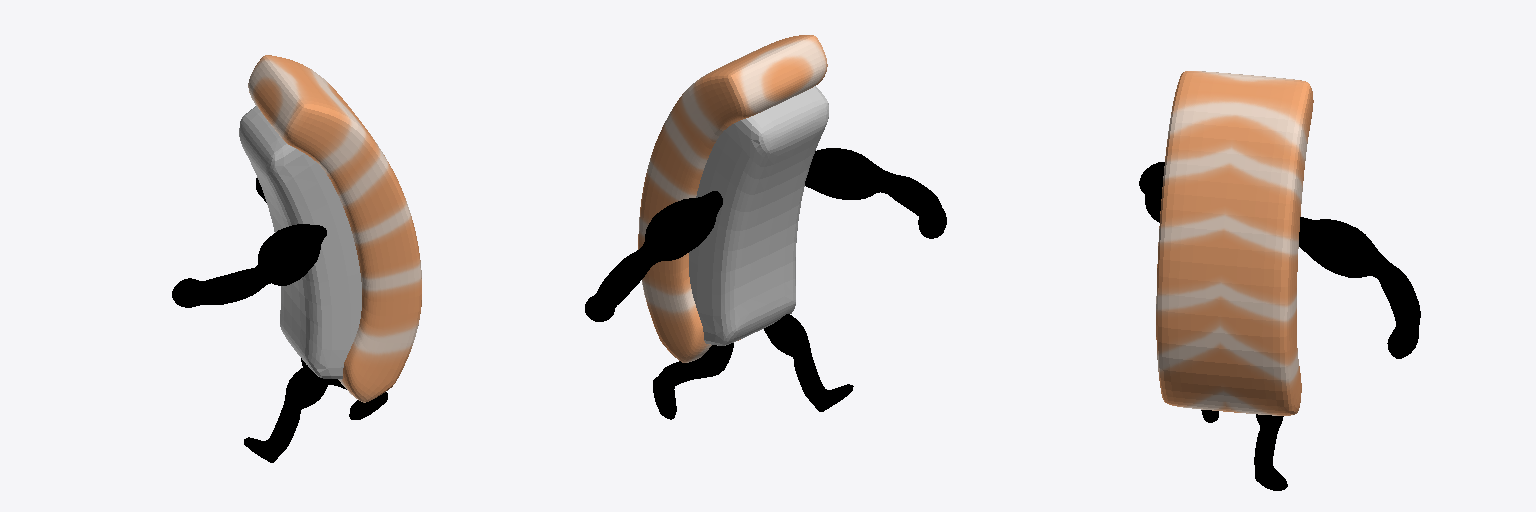
3 renders of one model, left to right at view 1: azimuth 30°, elevation 25°; view 2: azimuth 150°, elevation 25°; view 3: azimuth 270°, elevation 25°, orthographic.
Visible parts, largest first — view 1: Cube.001, Cube, BezierCurve.001, BezierCurve.003; view 2: Cube, Cube.001, BezierCurve.001, BezierCurve.003; view 3: Cube.001, BezierCurve.001, BezierCurve.003.
Part boxes in pixels (x1,y1,x2,y2): Cube.001: (248, 55, 421, 402); Cube: (239, 106, 361, 379); BezierCurve.001: (172, 178, 326, 307); BezierCurve.003: (244, 358, 387, 462); Cube: (689, 86, 828, 345); Cube.001: (638, 35, 827, 362); BezierCurve.001: (585, 148, 946, 321); BezierCurve.003: (653, 314, 853, 419); Cube.001: (1156, 71, 1313, 415); BezierCurve.001: (1139, 162, 1420, 358); BezierCurve.003: (1201, 410, 1287, 490).
Size of the model in its own units: 5.22 by 7.25 by 4.96.
4 materials, 1 textured.